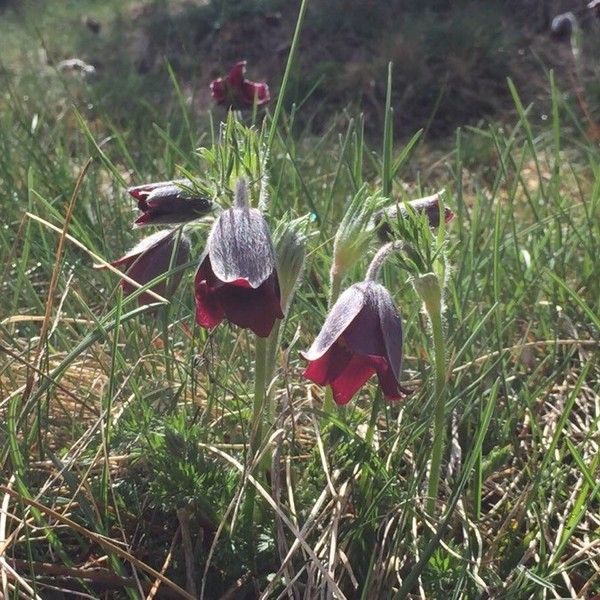obstacle: (146, 61, 545, 562)
